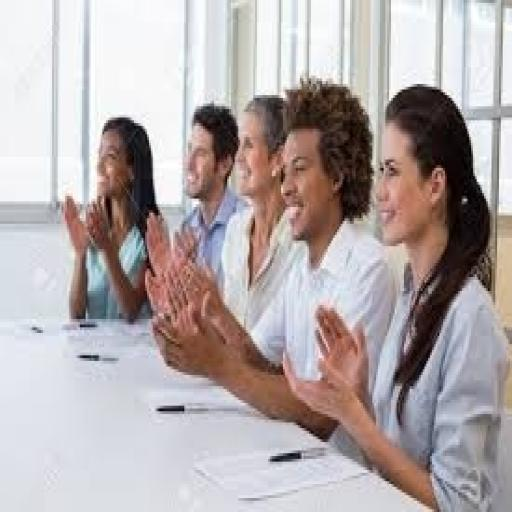clapping: (279, 81, 510, 509), (184, 87, 370, 464), (130, 46, 282, 480), (59, 112, 164, 324)
